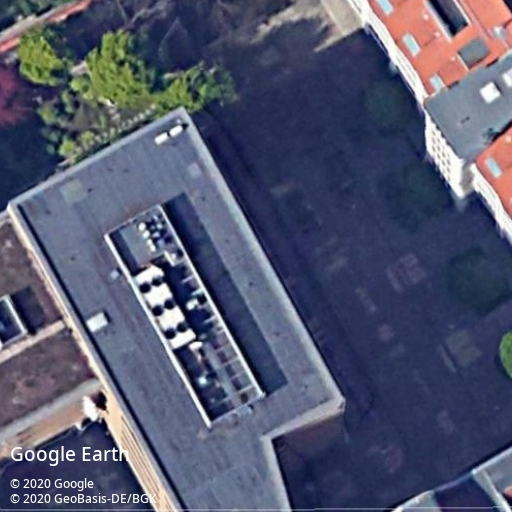Chiller: (132, 265, 197, 350)
